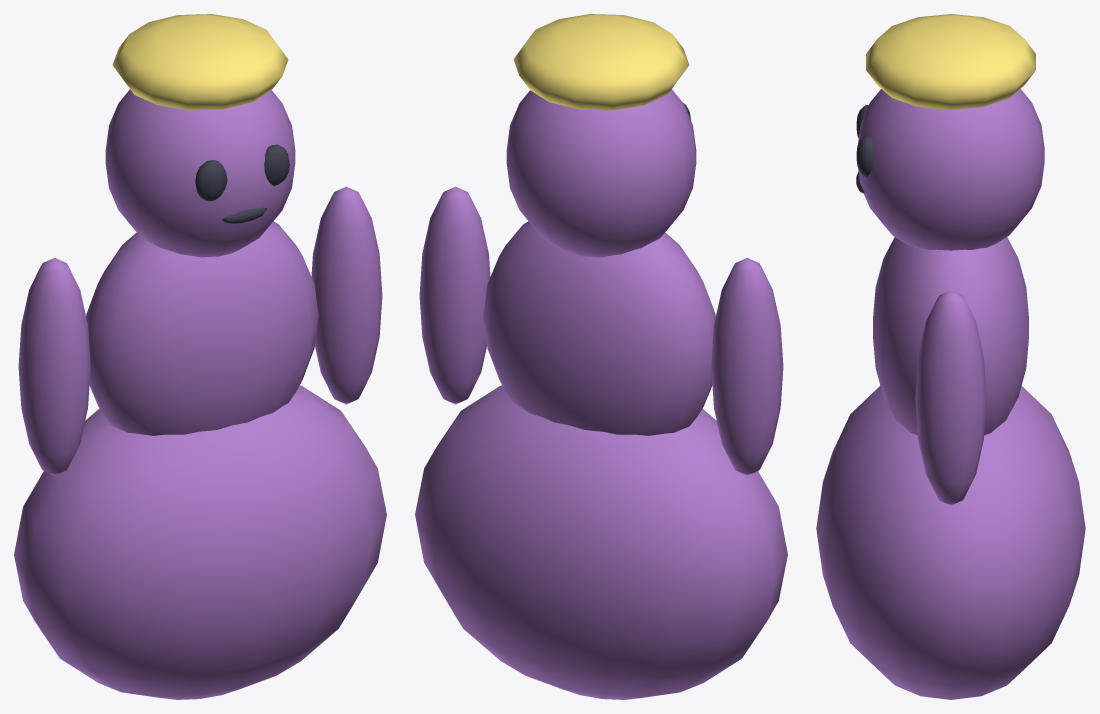
The model's file is queen.glb.
3 renders of one model, left to right at view 1: azimuth 30°, elevation 25°; view 2: azimuth 150°, elevation 25°; view 3: azimuth 270°, elevation 25°, orthographic.
Visible parts, largest first — view 1: Robe, Torso, Head, Crown, ArmLeft, ArmRight, EyeLeft, EyeRight; view 2: Robe, Torso, Head, Crown, ArmLeft, ArmRight; view 3: Robe, Head, Torso, Crown, ArmRight, EyeRight.
Part boxes in pixels (bbox=[...]): Robe: bbox=[14, 385, 386, 699]; Torso: bbox=[86, 221, 318, 435]; Head: bbox=[105, 89, 295, 257]; Crown: bbox=[112, 14, 288, 110]; ArmLeft: bbox=[18, 257, 90, 475]; ArmRight: bbox=[311, 186, 382, 404]; EyeLeft: bbox=[195, 160, 227, 201]; EyeRight: bbox=[264, 144, 289, 185]; Robe: bbox=[415, 385, 787, 699]; Torso: bbox=[483, 221, 715, 435]; Head: bbox=[506, 89, 696, 257]; Crown: bbox=[513, 14, 689, 110]; ArmLeft: bbox=[711, 257, 783, 475]; ArmRight: bbox=[419, 186, 490, 404]; Robe: bbox=[816, 386, 1085, 699]; Head: bbox=[858, 89, 1044, 250]; Torso: bbox=[873, 237, 1028, 435]; Crown: bbox=[866, 14, 1035, 109]; ArmRight: bbox=[915, 290, 986, 505]; EyeRight: bbox=[856, 135, 873, 176].
Size of the model in its own units: 1.02 by 1.81 by 0.68.
